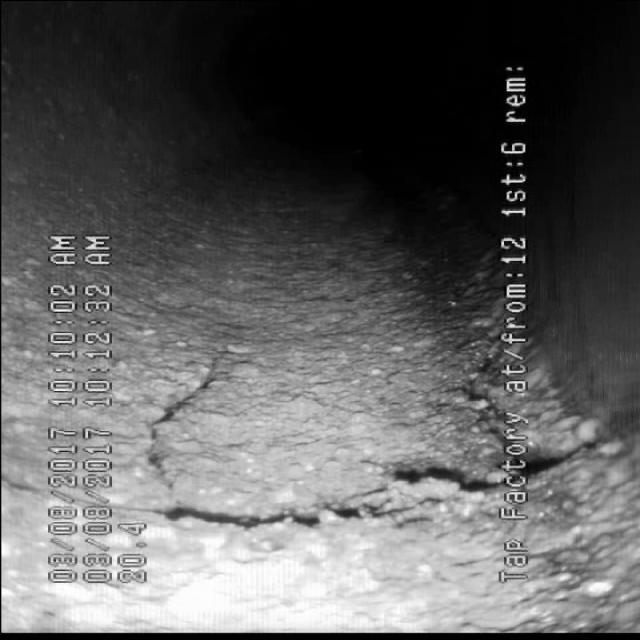Fracture: (141, 334, 455, 557)
